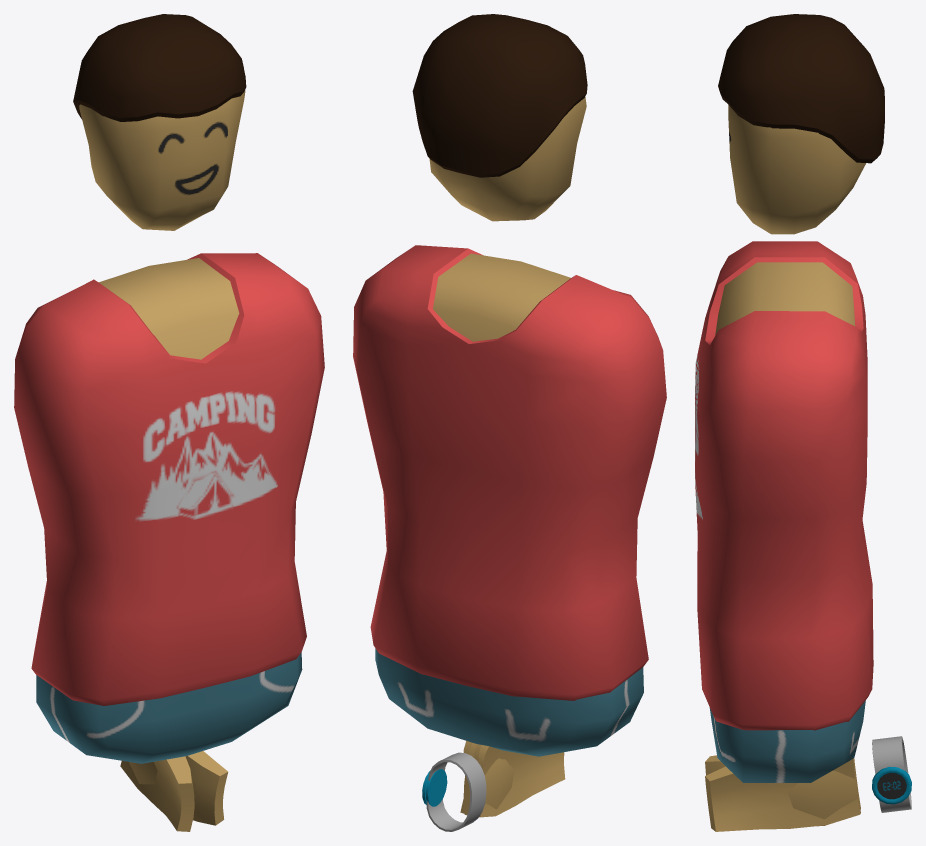
File: Avatar1.fbx
The picture shows the model from 3 angles, left to right: view 1: azimuth 30°, elevation 25°; view 2: azimuth 150°, elevation 25°; view 3: azimuth 270°, elevation 25°; orthographic projection. The views are drawn at different scales.
Visible parts, largest first — view 1: Body1, Head1, Hair1, HandL, HandR; view 2: Body1, Hair1, Head1, HandL, Watch, HandR; view 3: Body1, Hair1, Head1, HandR, Watch, HandL.
Part boxes in pixels (x1=…): Body1: x1=14, y1=253, x2=324, y2=763; Head1: x1=79, y1=90, x2=245, y2=230; Hair1: x1=73, y1=14, x2=246, y2=121; HandL: x1=120, y1=756, x2=194, y2=831; HandR: x1=129, y1=751, x2=228, y2=825; Body1: x1=353, y1=245, x2=666, y2=756; Hair1: x1=412, y1=14, x2=587, y2=177; Head1: x1=429, y1=97, x2=586, y2=221; HandL: x1=463, y1=743, x2=565, y2=817; Watch: x1=422, y1=752, x2=486, y2=831; HandR: x1=460, y1=741, x2=514, y2=816; Body1: x1=695, y1=241, x2=873, y2=782; Hair1: x1=718, y1=14, x2=884, y2=163; Head1: x1=728, y1=105, x2=866, y2=234; HandR: x1=705, y1=758, x2=860, y2=831; Watch: x1=872, y1=736, x2=911, y2=812; HandL: x1=705, y1=755, x2=860, y2=826.
Size of the model in its own units: 46.46 by 125 by 30.88.
3 materials, 2 textured.
